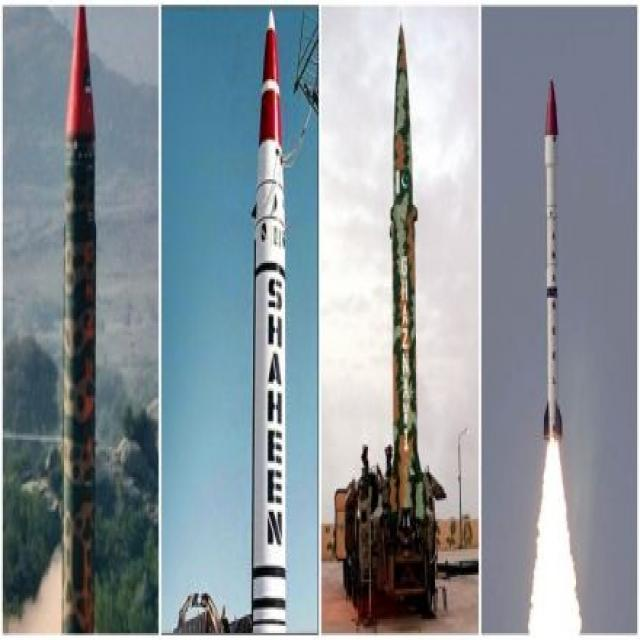Missile: (59, 13, 101, 638), (251, 12, 291, 632), (384, 25, 430, 516), (535, 70, 573, 444)
